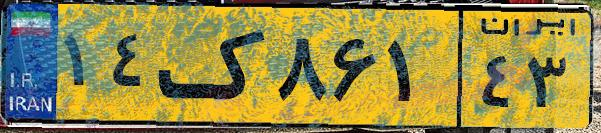1: (385, 28, 445, 110), (57, 26, 110, 100)
3: (525, 38, 570, 115)
4: (475, 38, 525, 113), (110, 28, 158, 98)
6: (330, 28, 385, 110)
8: (270, 28, 330, 110)
ک: (158, 12, 270, 120)
